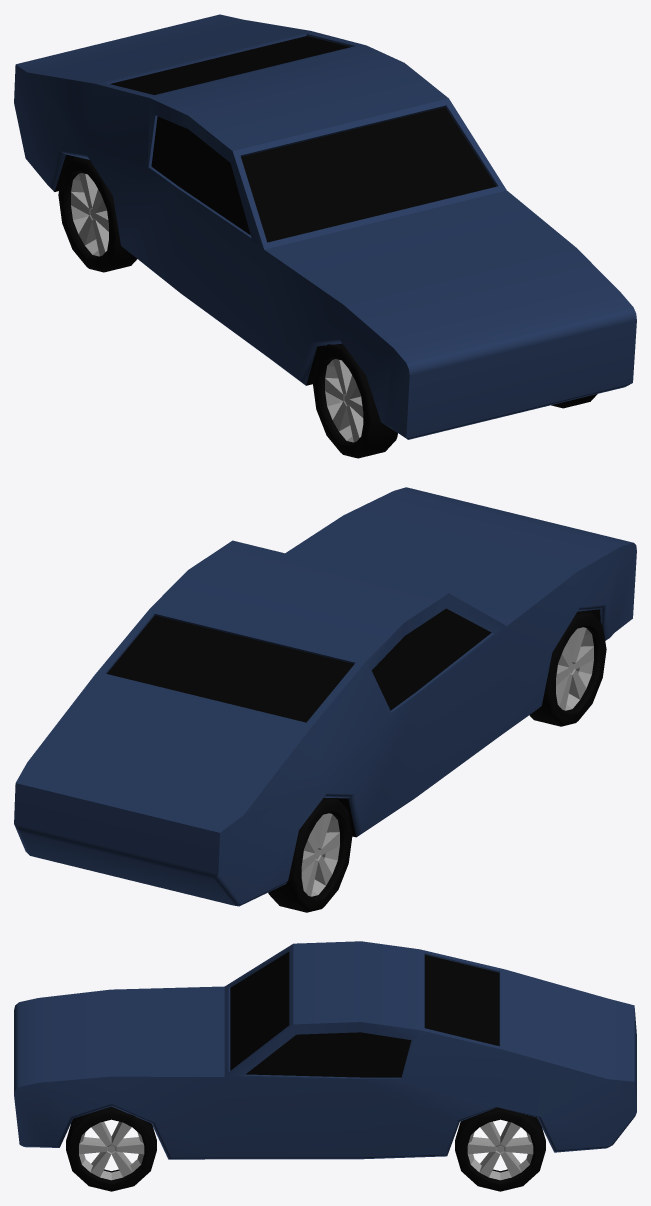
The model's file is carr (1).fbx.
3 views of the same model, one above another, from view 1: azimuth 30°, elevation 25°; view 2: azimuth 150°, elevation 25°; view 3: azimuth 270°, elevation 25° (orthographic). The views are drawn at different scales.
Parts seen in each view (by area): view 1: body, polySurface10, polySurface9; view 2: body, polySurface9, polySurface10; view 3: body, polySurface7, polySurface8.
Part boxes in pixels (x1,y1,x2,y2): body: (14,14,636,439); polySurface10: (312,343,397,458); polySurface9: (58,157,136,272); body: (14,487,636,906); polySurface9: (268,797,352,912); polySurface10: (529,610,606,726); body: (14,941,636,1159); polySurface7: (455,1107,545,1191); polySurface8: (66,1106,156,1191).
Size of the model in its own units: 2.13 by 1.83 by 6.18.
